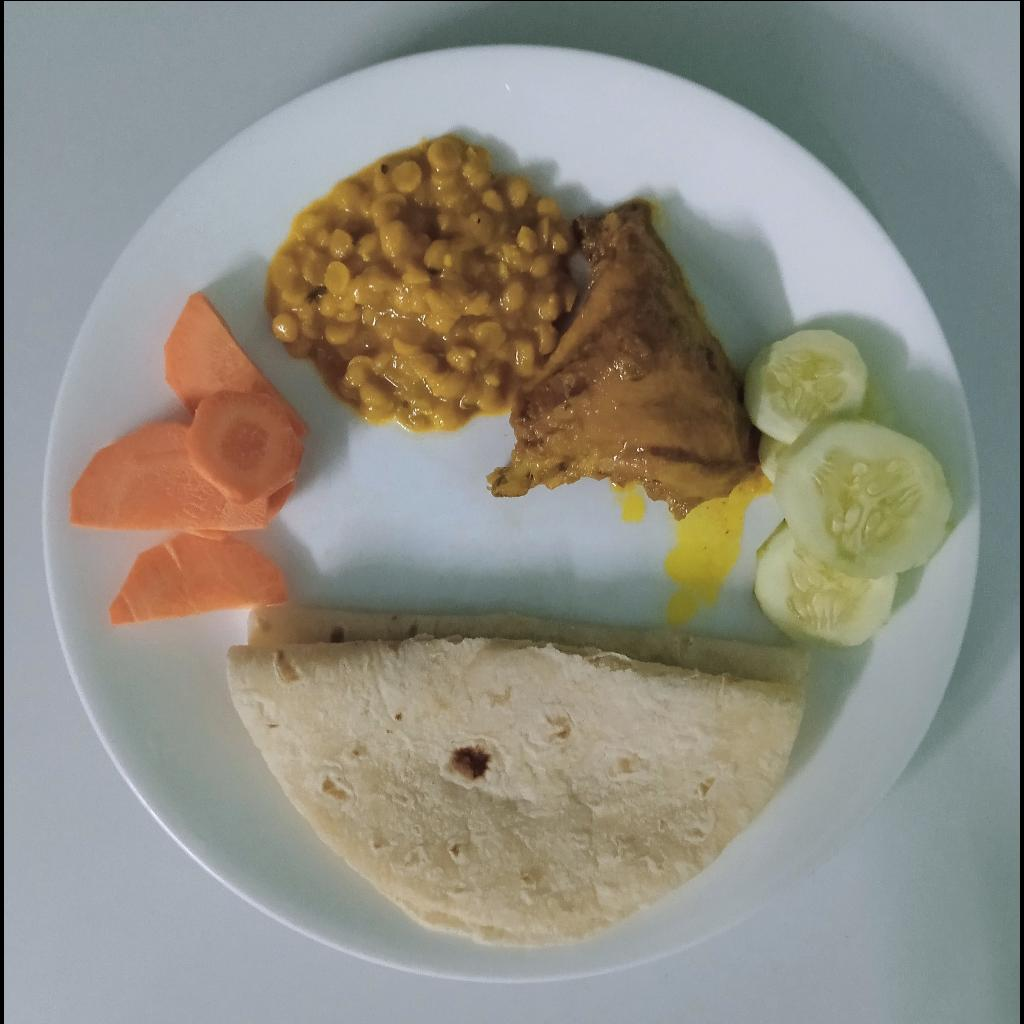carrot: (70, 293, 311, 624)
chicken: (485, 199, 762, 515)
cucumber: (740, 328, 953, 651)
daal: (266, 140, 573, 430)
ruti: (225, 607, 808, 946)
